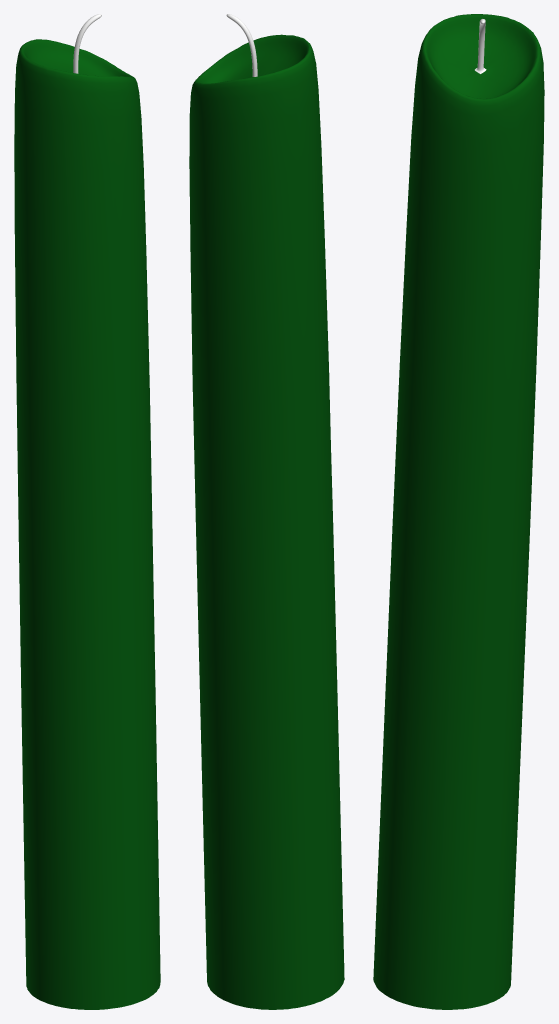
Rendered from green-candle-draco.glb.
3 views of the same model, side by side, from view 1: azimuth 30°, elevation 25°; view 2: azimuth 150°, elevation 25°; view 3: azimuth 270°, elevation 25° (orthographic). The views are drawn at different scales.
Visible parts, largest first — view 1: candle; view 2: candle; view 3: candle.
Part boxes in pixels (x1,y1,x2,y2): candle: (14,14,160,1009); candle: (189,14,344,1009); candle: (373,14,544,1009).
Bounding box in the file's own units: 0.9087 × 7.01 × 1.12.
